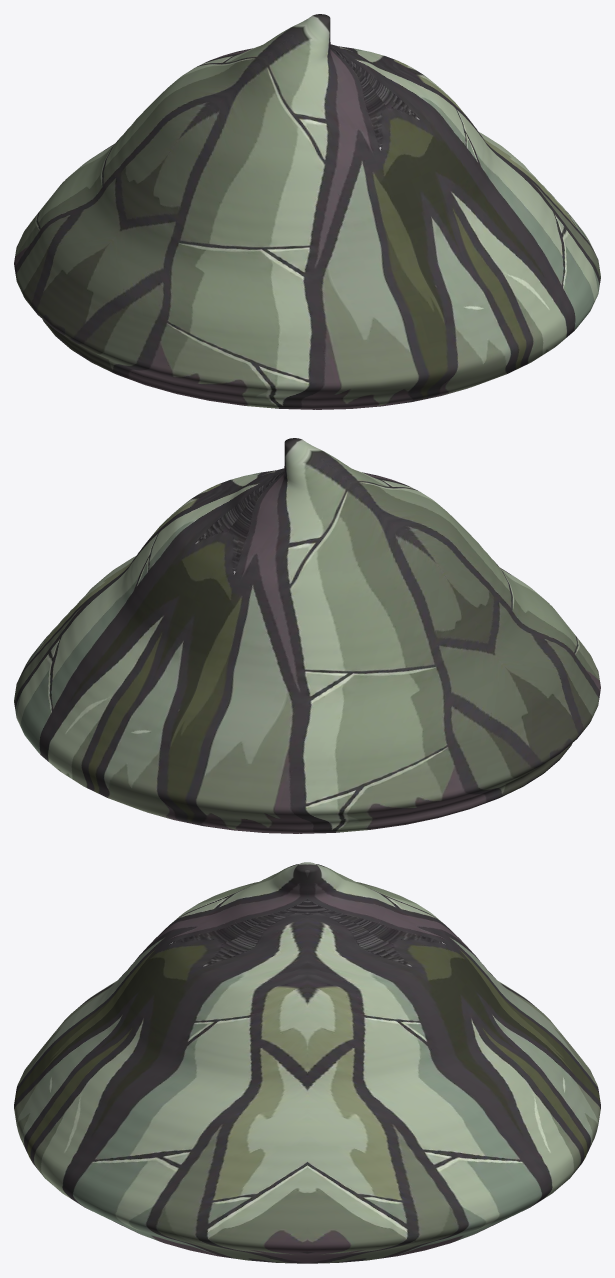
The model's file is ribbed_crag.glb.
3 views of the same model, one above another, from view 1: azimuth 30°, elevation 25°; view 2: azimuth 150°, elevation 25°; view 3: azimuth 270°, elevation 25° (orthographic).
Visible parts, largest first — view 1: ribbed_crag; view 2: ribbed_crag; view 3: ribbed_crag.
Boxes of the visible parts, x1=… form: ribbed_crag: x1=14, y1=14, x2=600, y2=409; ribbed_crag: x1=14, y1=438, x2=600, y2=833; ribbed_crag: x1=14, y1=862, x2=600, y2=1263.
Bounding box in the file's own units: 0.9857 × 0.5977 × 0.9721.
Materials: 1 (1 with a texture image).
